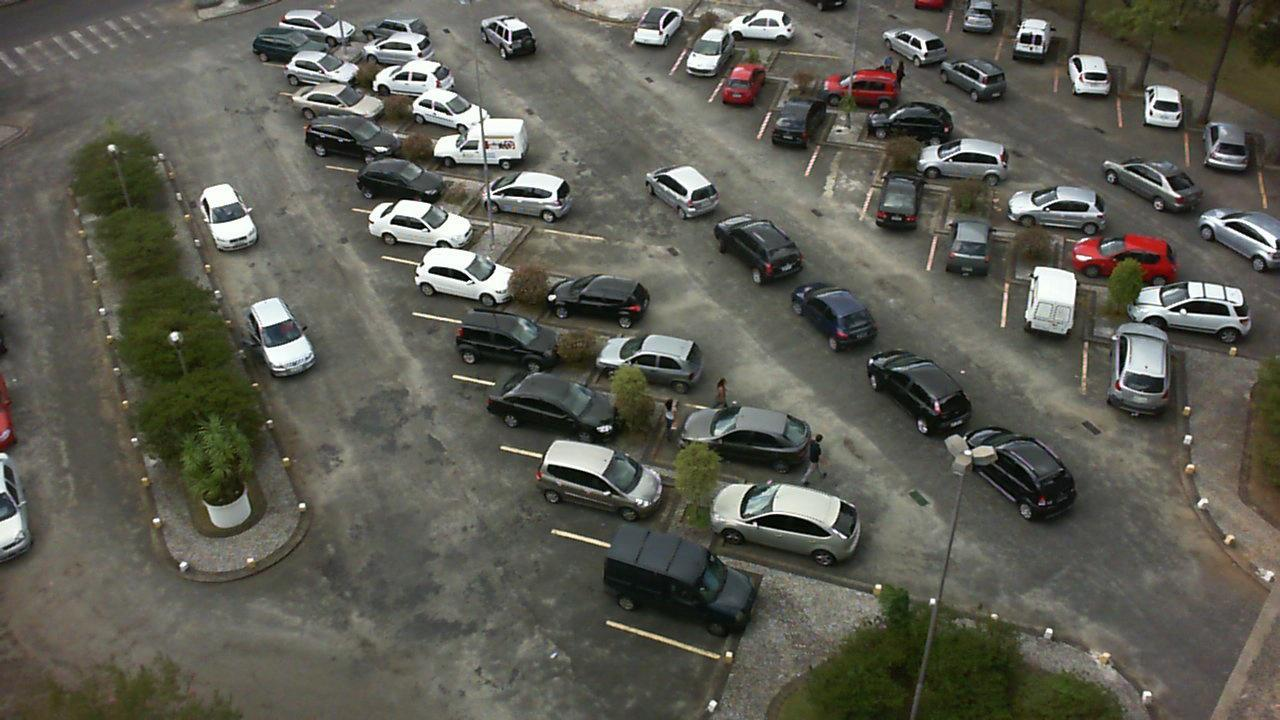empty: (508, 216, 630, 277), (801, 137, 884, 205), (778, 43, 857, 84)
occupied: (608, 526, 775, 654), (542, 439, 695, 539), (634, 397, 776, 485), (730, 478, 865, 570), (491, 366, 626, 456), (446, 304, 573, 386), (603, 324, 724, 402), (543, 264, 673, 334), (1139, 292, 1260, 362), (1083, 341, 1181, 421), (408, 252, 524, 316), (384, 198, 497, 263), (1065, 231, 1169, 296), (473, 167, 589, 225), (935, 223, 1013, 307), (1005, 271, 1085, 351), (992, 185, 1105, 240), (404, 88, 515, 143), (343, 156, 450, 211), (863, 183, 946, 253), (316, 113, 413, 169), (927, 140, 1028, 191), (629, 10, 703, 77), (760, 104, 832, 172), (445, 132, 544, 181), (819, 68, 916, 116), (670, 45, 745, 106), (709, 71, 784, 130), (301, 84, 393, 130), (1126, 84, 1185, 153), (867, 105, 955, 150), (278, 51, 364, 97), (349, 35, 438, 76), (732, 12, 821, 53), (383, 65, 472, 105), (1000, 22, 1064, 77), (1057, 51, 1118, 108)
